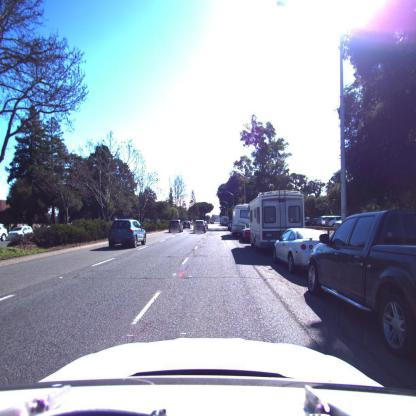car: (273, 227, 336, 274), (109, 220, 146, 250), (314, 214, 342, 228), (168, 220, 183, 233), (193, 220, 207, 233), (0, 223, 7, 241), (181, 221, 191, 229)
truck: (306, 208, 416, 367), (247, 193, 306, 251), (231, 204, 250, 238), (220, 214, 230, 226)
